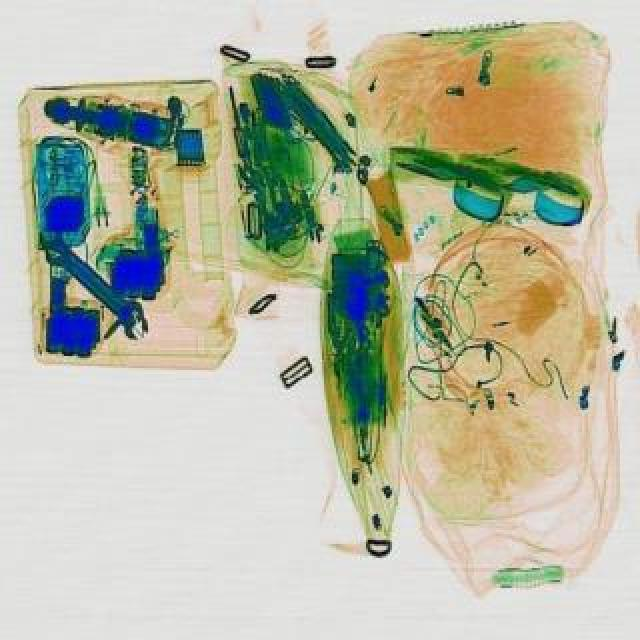scissors: (40, 240, 156, 346), (30, 228, 146, 330)
